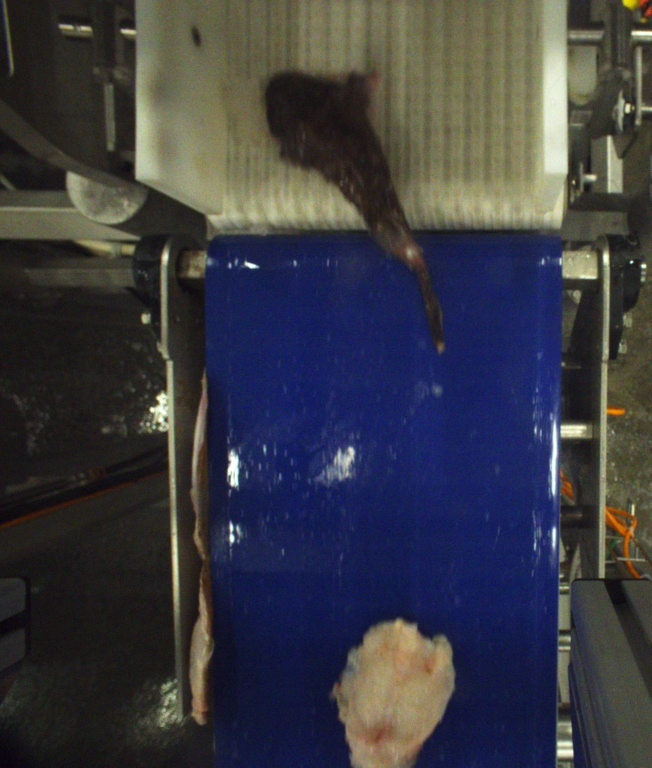ANF: (333, 616, 453, 768)
